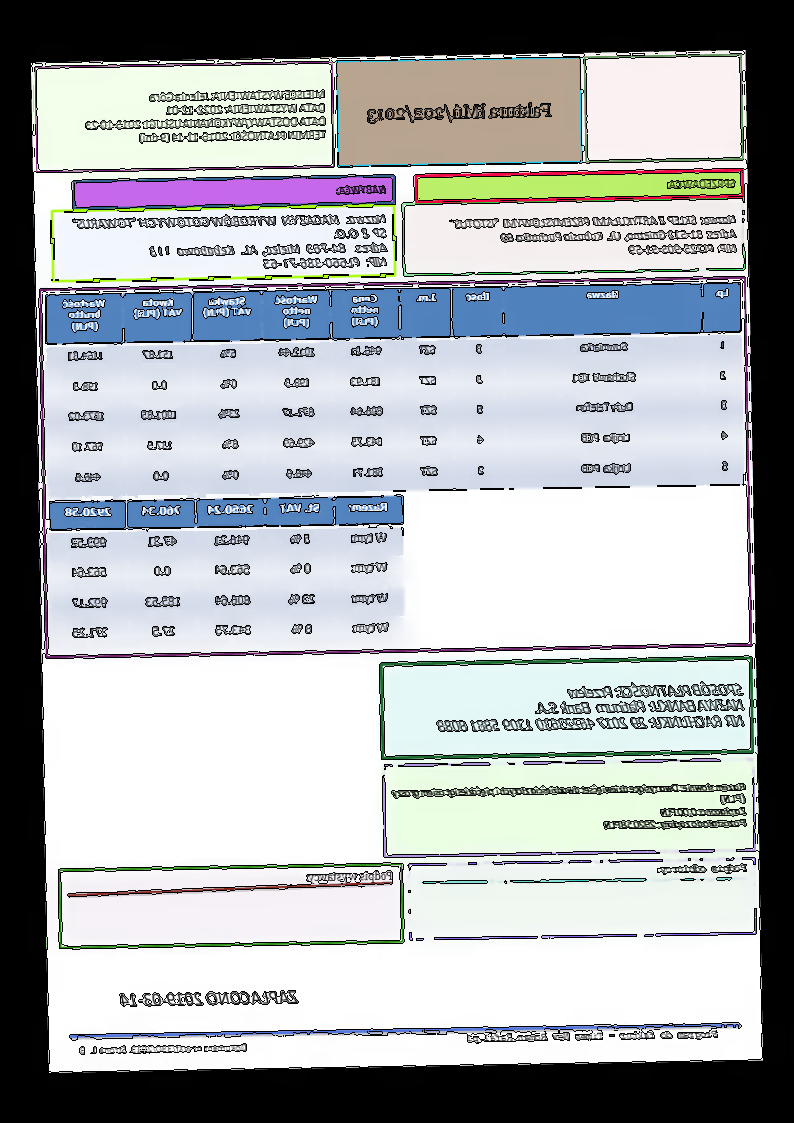Table: (46, 280, 746, 500), (48, 493, 407, 653)
TextBox: (71, 211, 389, 273), (390, 781, 748, 836), (435, 678, 746, 734), (83, 86, 328, 147), (448, 212, 739, 260), (366, 99, 555, 127), (466, 1028, 719, 1046), (119, 987, 300, 1009), (78, 1041, 250, 1056), (305, 868, 394, 887), (656, 862, 750, 877), (667, 176, 737, 191), (335, 182, 388, 198)
